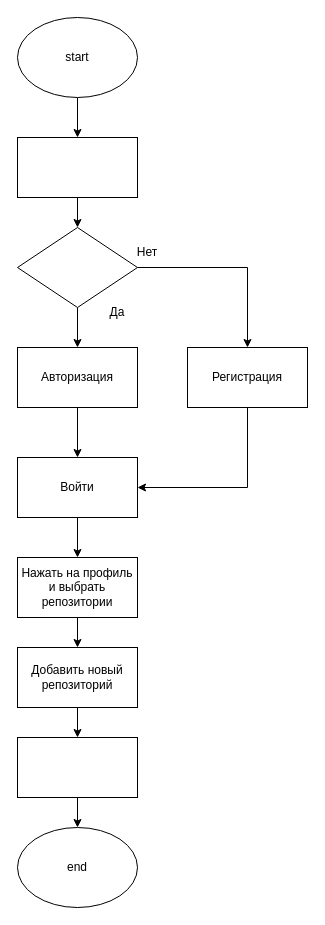
Some shapes in this 325 by 925 pixel diagram are drawn without their labels. The shapes that lost their labels are listed below. From the top down, each one's centre as x and y in pixels, then its label:
At point (77, 167): "Зайти на сайт".
At point (77, 267): "Есть аккаунт?".
At point (77, 767): "Назвать репозиторий и выбрать доп параметры".
